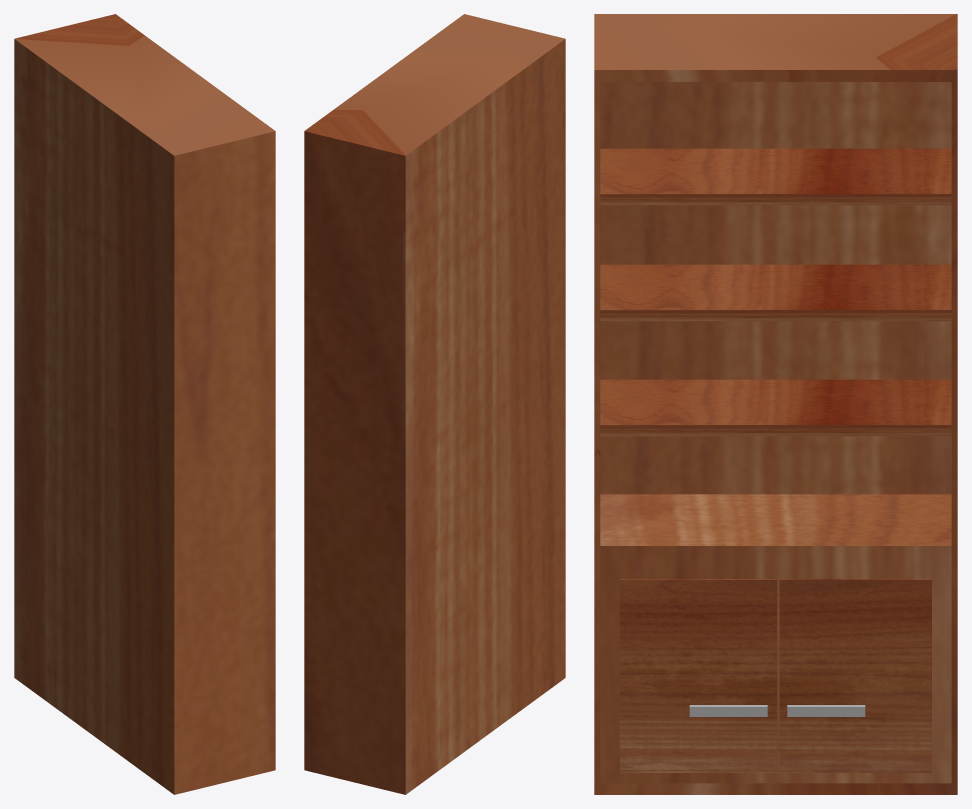
The model's file is Armario_Unity.fbx.
The picture shows the model from 3 angles, left to right: view 1: azimuth 30°, elevation 25°; view 2: azimuth 150°, elevation 25°; view 3: azimuth 270°, elevation 25°; orthographic projection. The views are drawn at different scales.
Visible parts, largest first — view 1: pCube1; view 2: pCube1; view 3: pCube1, pCube5, pCube2, pCube3, pCube4, pCube6, pCube7.
Part boxes in pixels (left/top/right/bottom): pCube1: left=14, top=14, right=275, bottom=794; pCube1: left=304, top=14, right=565, bottom=794; pCube1: left=594, top=14, right=957, bottom=794; pCube5: left=620, top=579, right=931, bottom=772; pCube2: left=600, top=264, right=951, bottom=321; pCube3: left=600, top=148, right=951, bottom=205; pCube4: left=600, top=379, right=951, bottom=436; pCube6: left=689, top=705, right=767, bottom=716; pCube7: left=787, top=705, right=865, bottom=716.
Size of the model in its own units: 1.52 by 8.7 by 3.95.
Materials: 2 (1 with a texture image).
